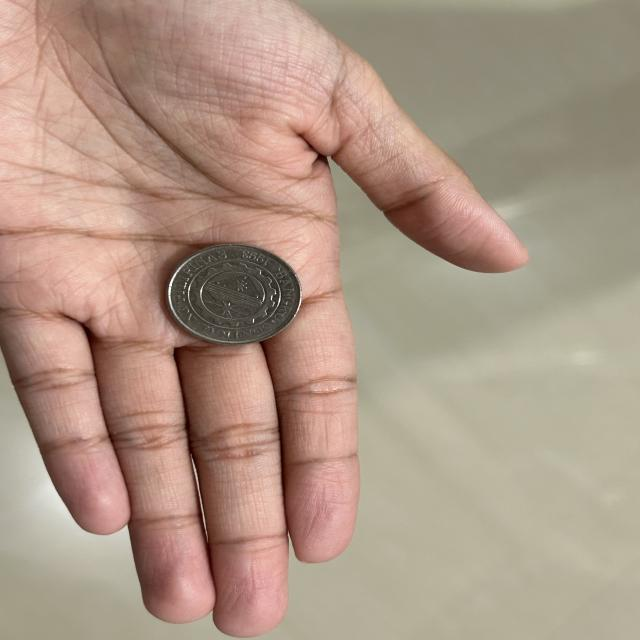1_Old_Back: (188, 258, 281, 332)
